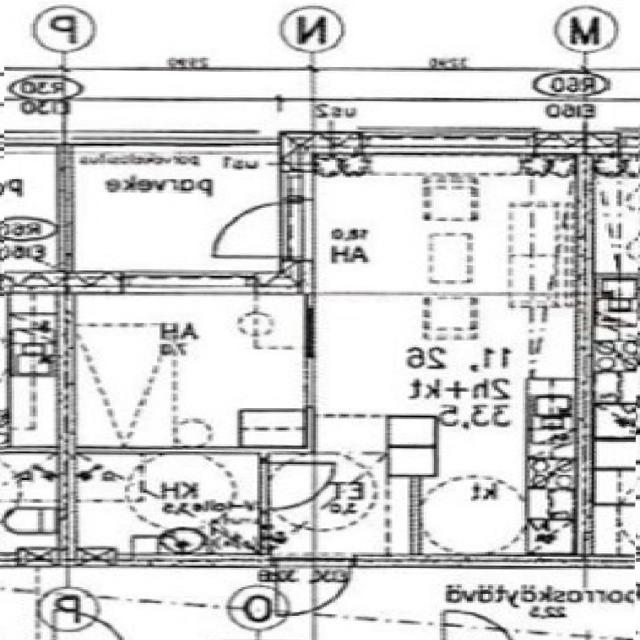door: (206, 203, 316, 257), (277, 554, 350, 620), (259, 462, 332, 508)
